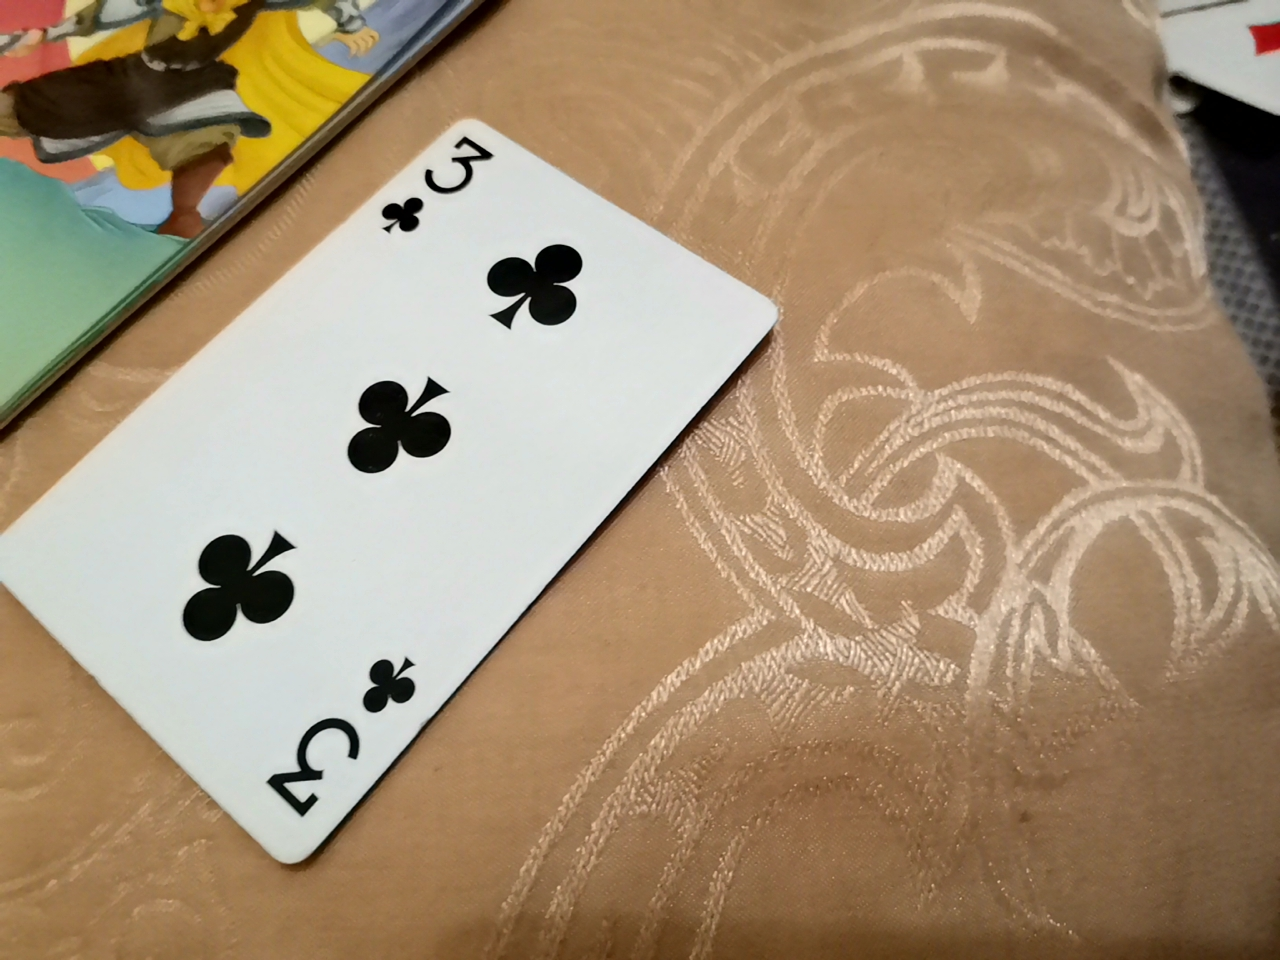mh 3: (0, 132, 804, 892)
